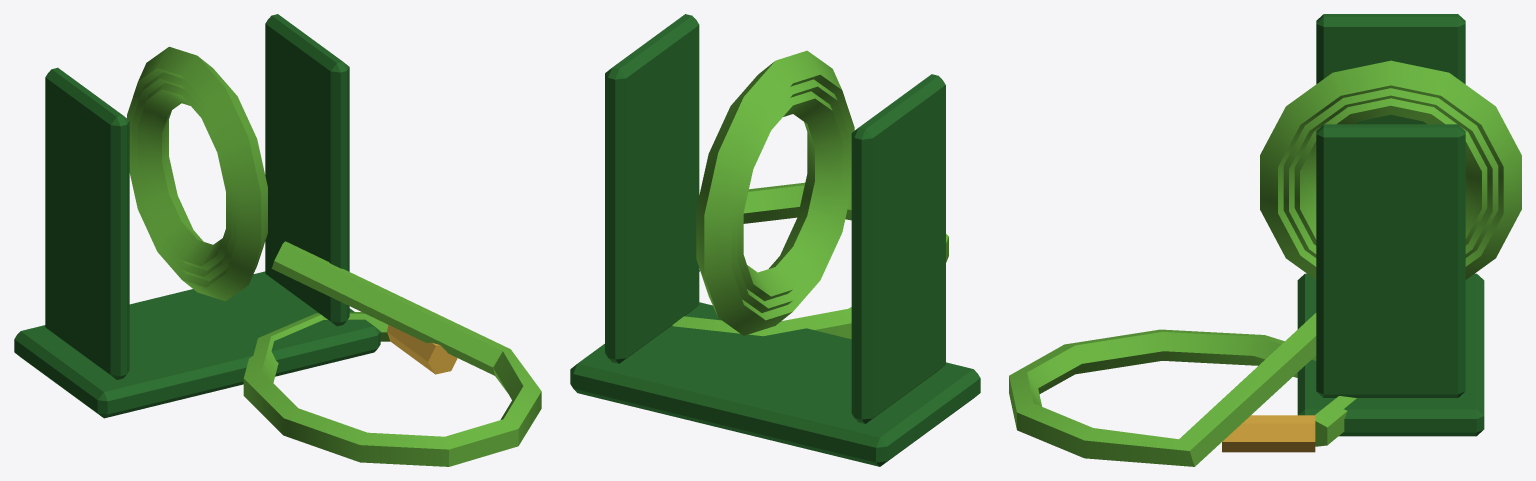
File: hose_reel.glb
The picture shows the model from 3 angles, left to right: view 1: azimuth 30°, elevation 25°; view 2: azimuth 150°, elevation 25°; view 3: azimuth 270°, elevation 25°; orthographic projection. The views are drawn at different scales.
Visible parts, largest first — view 1: body; view 2: body; view 3: body.
Boxes of the visible parts, x1=… form: body: x1=14, y1=14, x2=541, y2=466; body: x1=570, y1=14, x2=980, y2=466; body: x1=1009, y1=14, x2=1521, y2=466.
Bounding box in the file's own units: 1.14 × 0.91 × 1.37.
